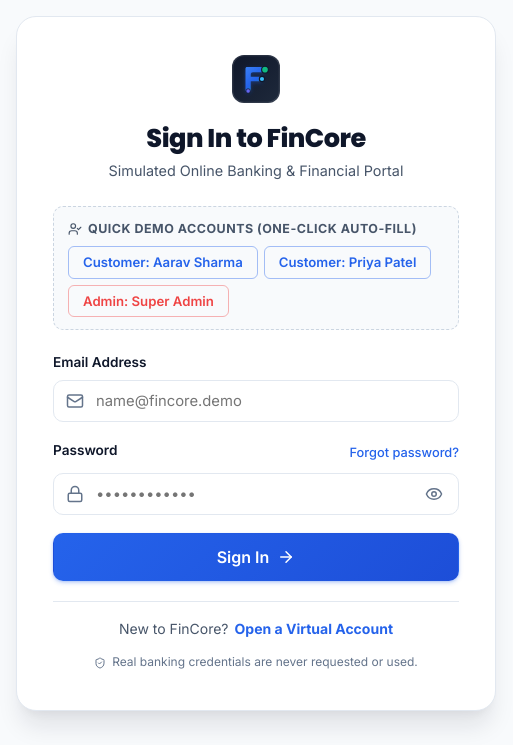
Test: LoginPage Component › autofills credentials when clicking quick demo account button
The width and height of the screenshot is (513, 745).
What coordinates should you click on to do the following:
click the button "Customer: Aarav Sharma"
I would click on:
 (163, 263)
Its box is [68,246,258,279].
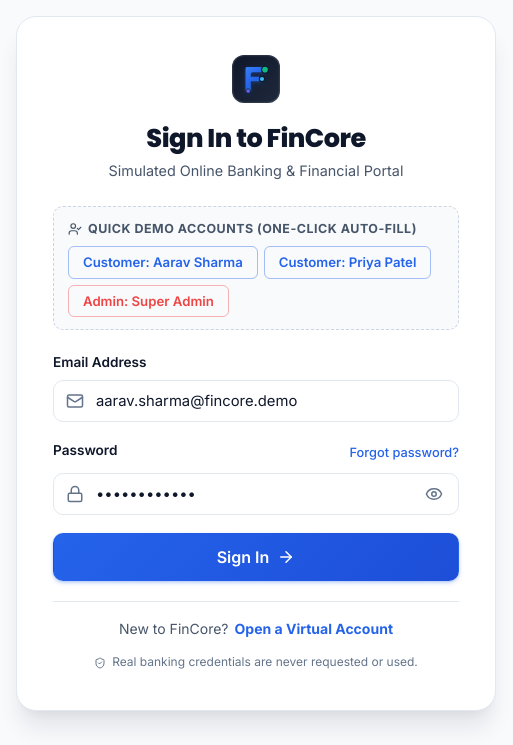
Expected: the field labelled "Email Address" holds "aarav.sharma@fincore.demo", [53,380,459,422]
Expected: the password field labelled "Password" holds "Password@123", [53,473,459,515]
